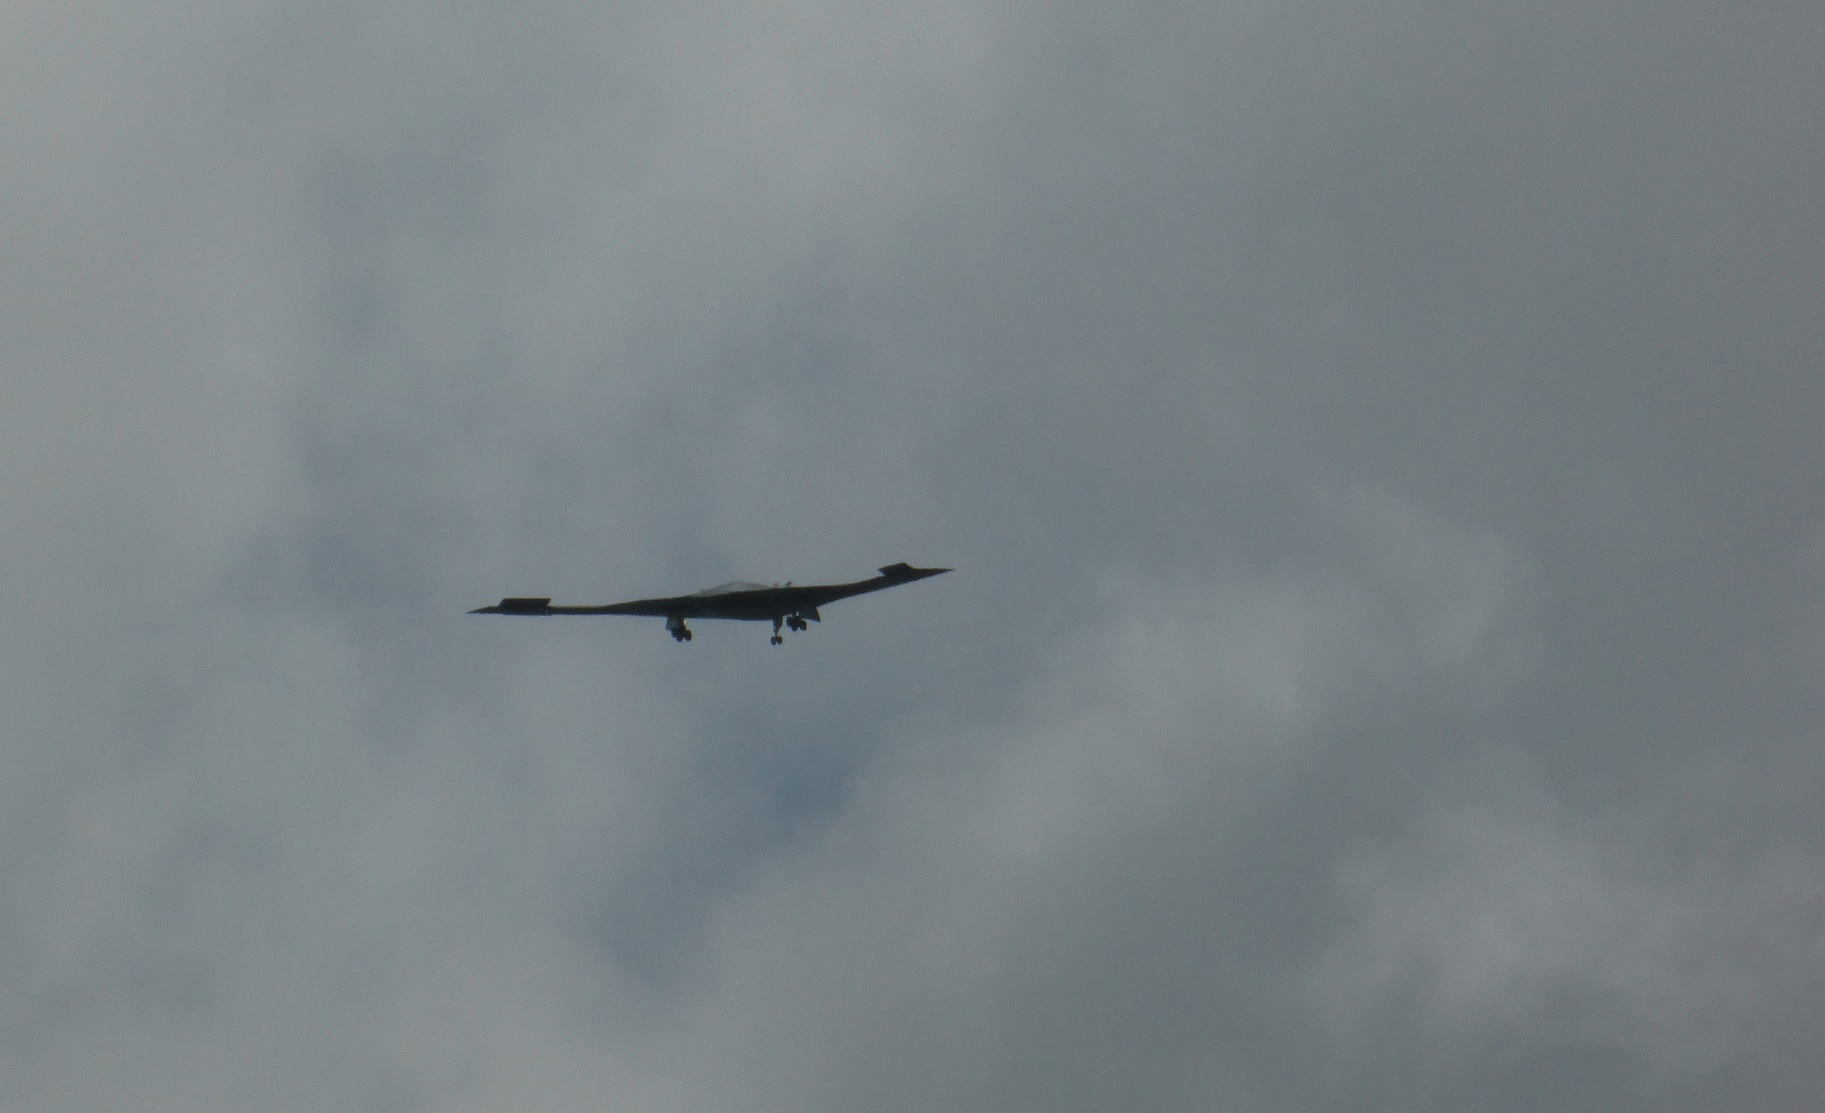B2: (464, 560, 958, 646)
